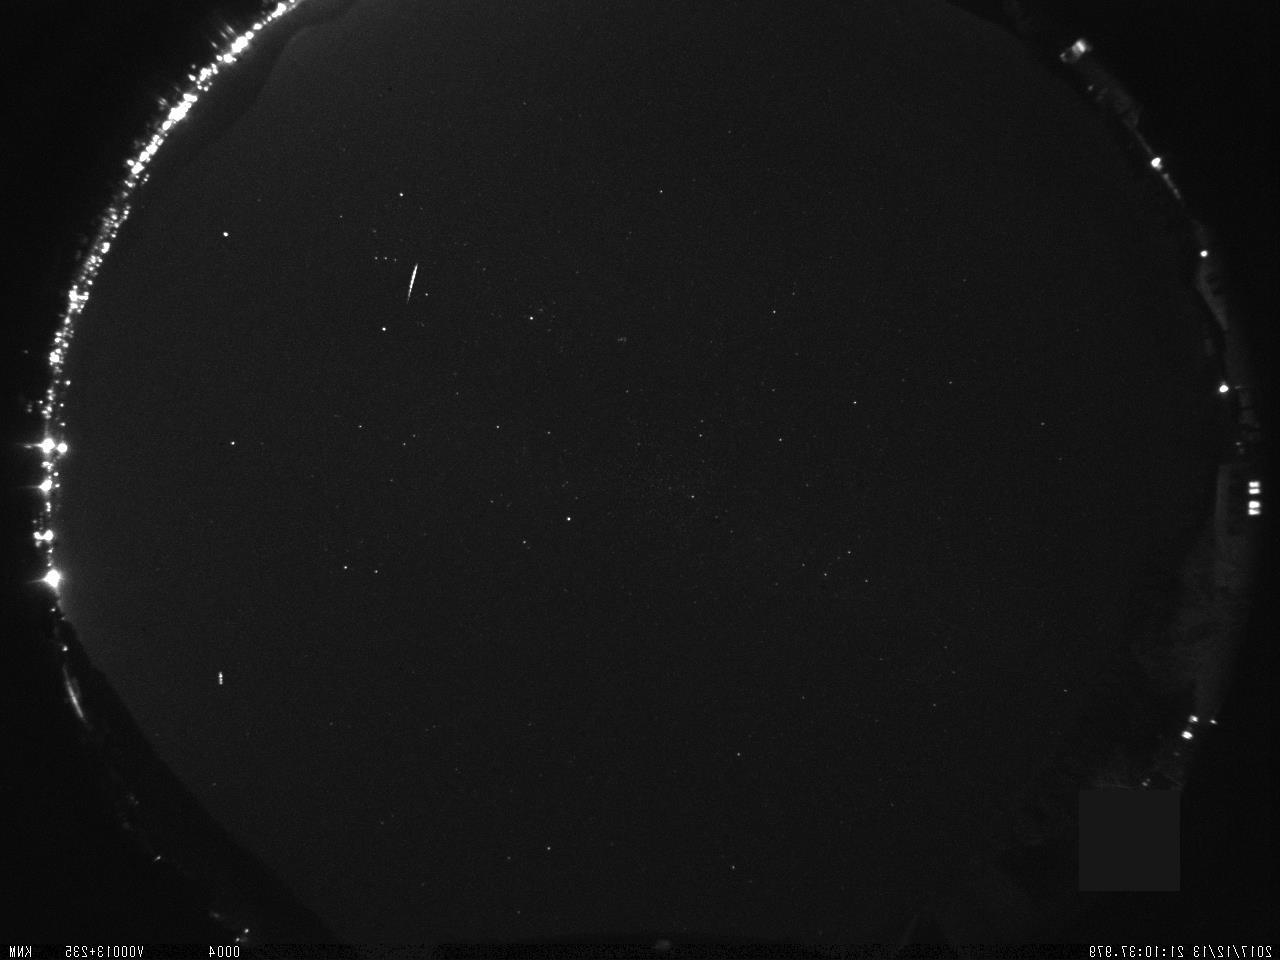meteor: (398, 255, 430, 304)
